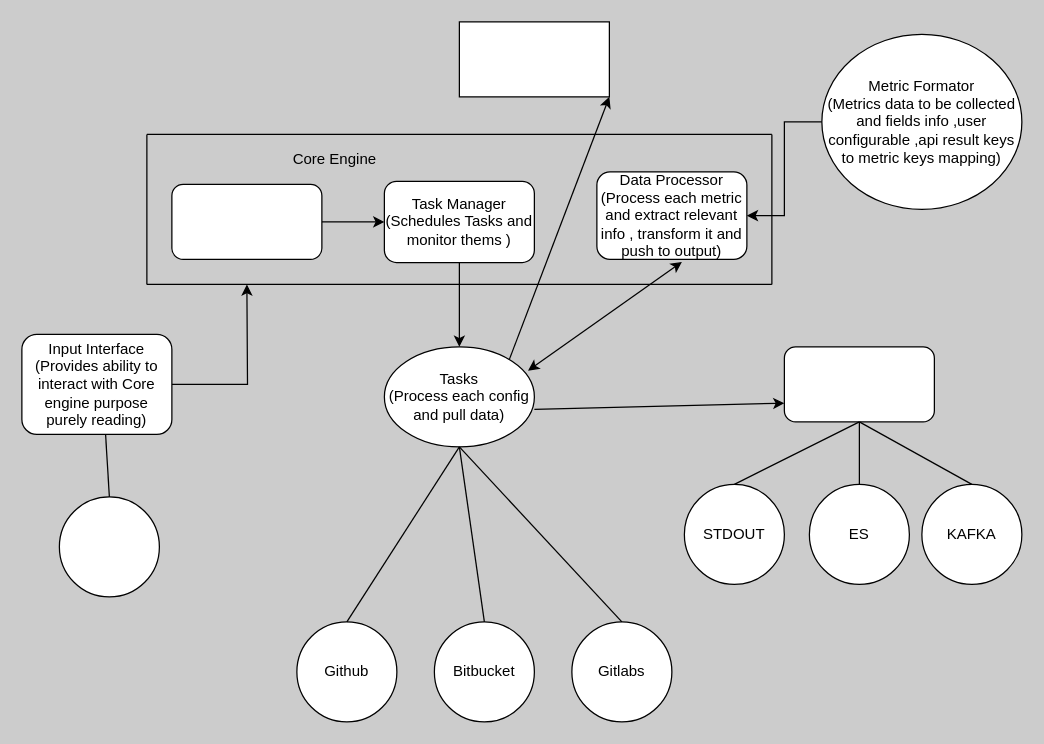
The diagram is 1044 pixels wide and 744 high, and some of its shapes have lost their labels. Each missing label, with the centre of its shape:
Config Files: pixel 108 546
Configurator (Reads config for processing and creates tasks): pixel 246 221
In-Memory DataStore (used for checkpointing and saving state of tasks): pixel 533 59
Publisher (Pushes metrics to targets): pixel 858 384
